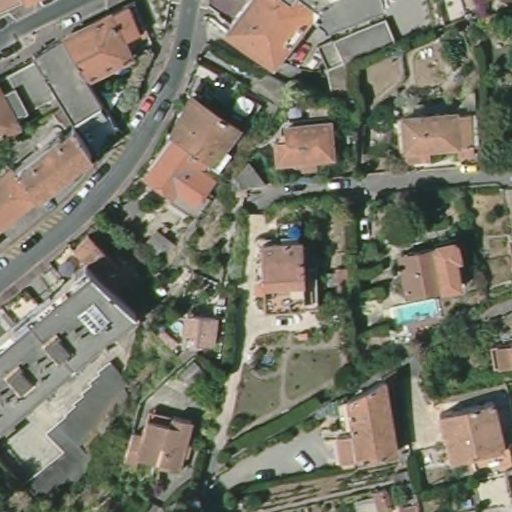pool: (389, 299, 441, 321), (171, 318, 183, 336), (288, 226, 302, 241)
